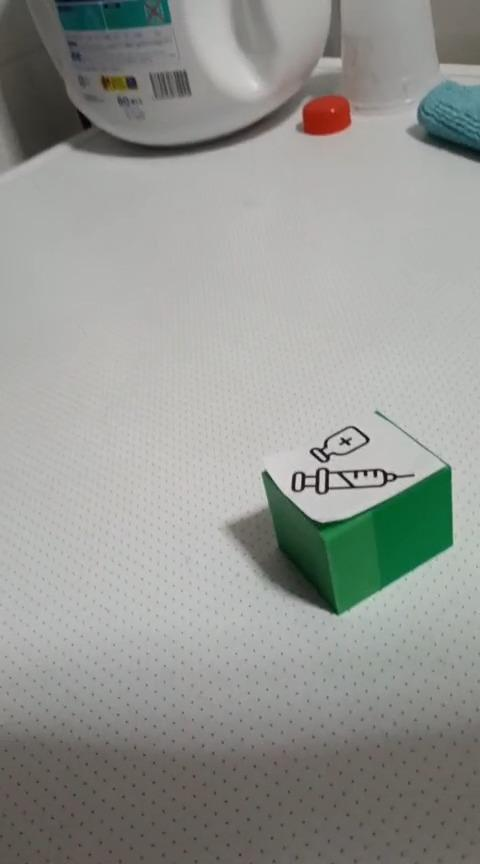antiseptic cream: (259, 406, 454, 615)
